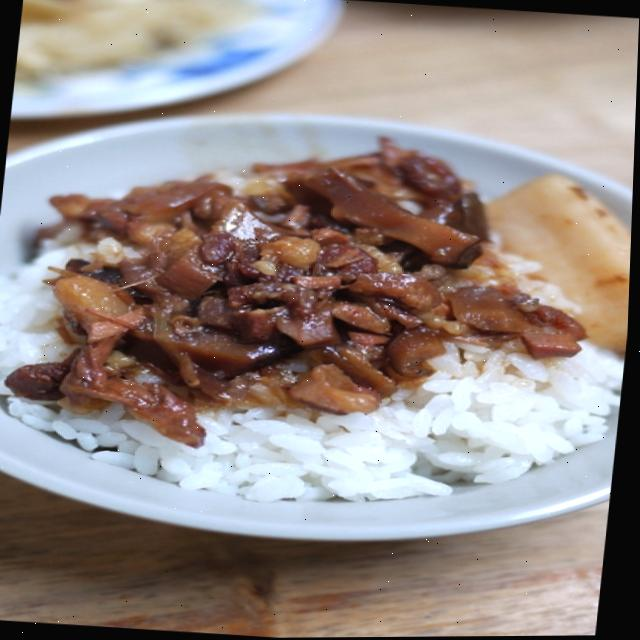猪肉菜式: (0, 93, 637, 531)
